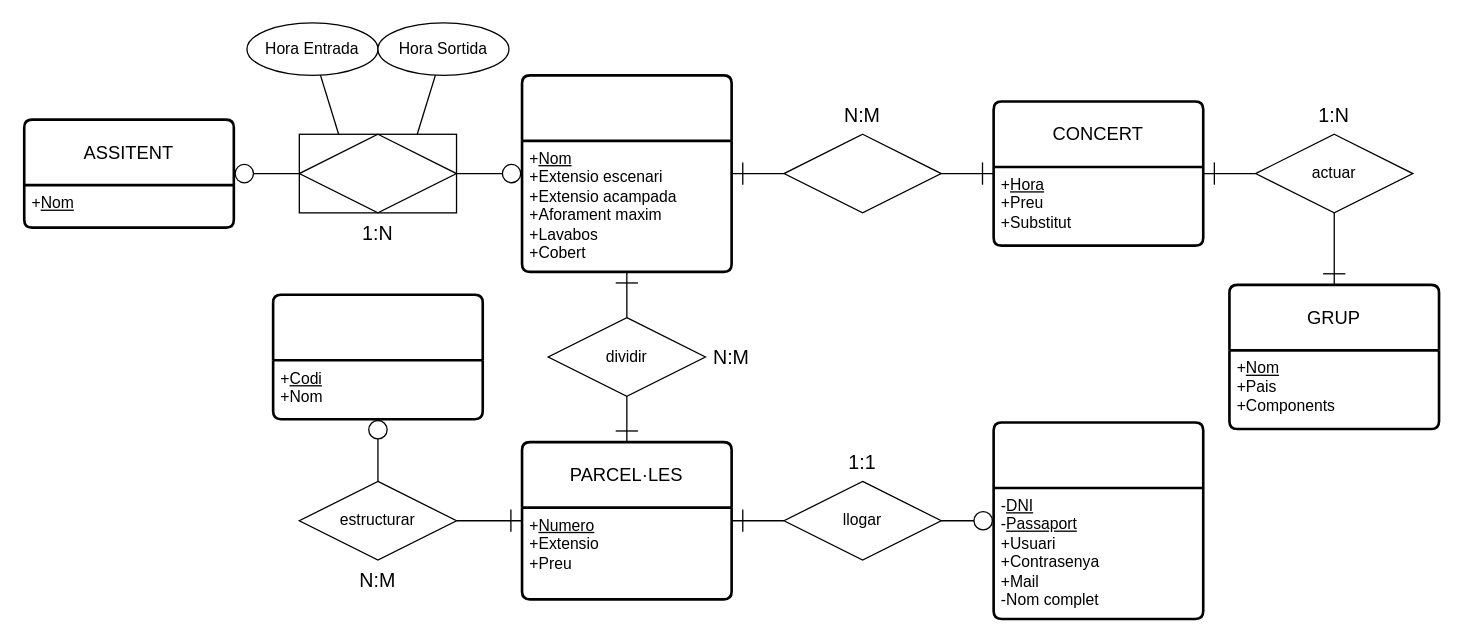
Image size: 1462x643. Some labels were removed from this diagram. The shapes that lost their labels are listed below. From the top down, each one's box as (x1, y1, x2, y2) in pixels, then its label:
(298, 133, 457, 213): accedir
(520, 73, 732, 272): RECINTE
(783, 133, 941, 213): tenir
(271, 293, 483, 420): CARRER
(992, 421, 1204, 620): PERSONES
